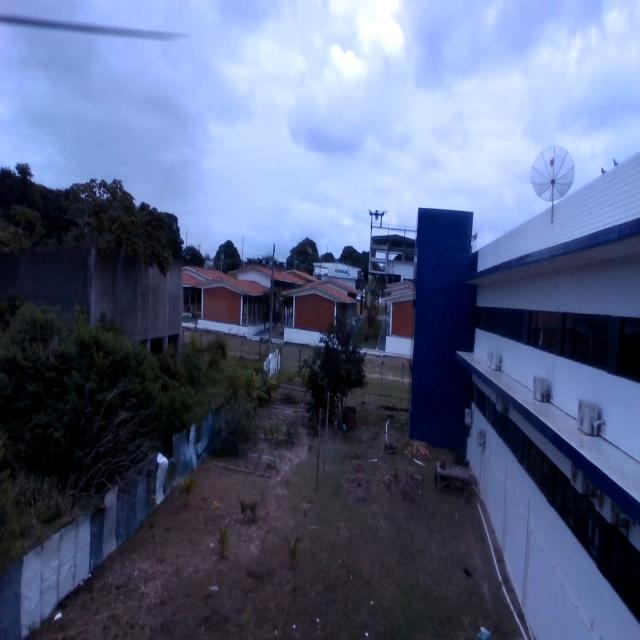-uav-: (363, 204, 388, 244)
